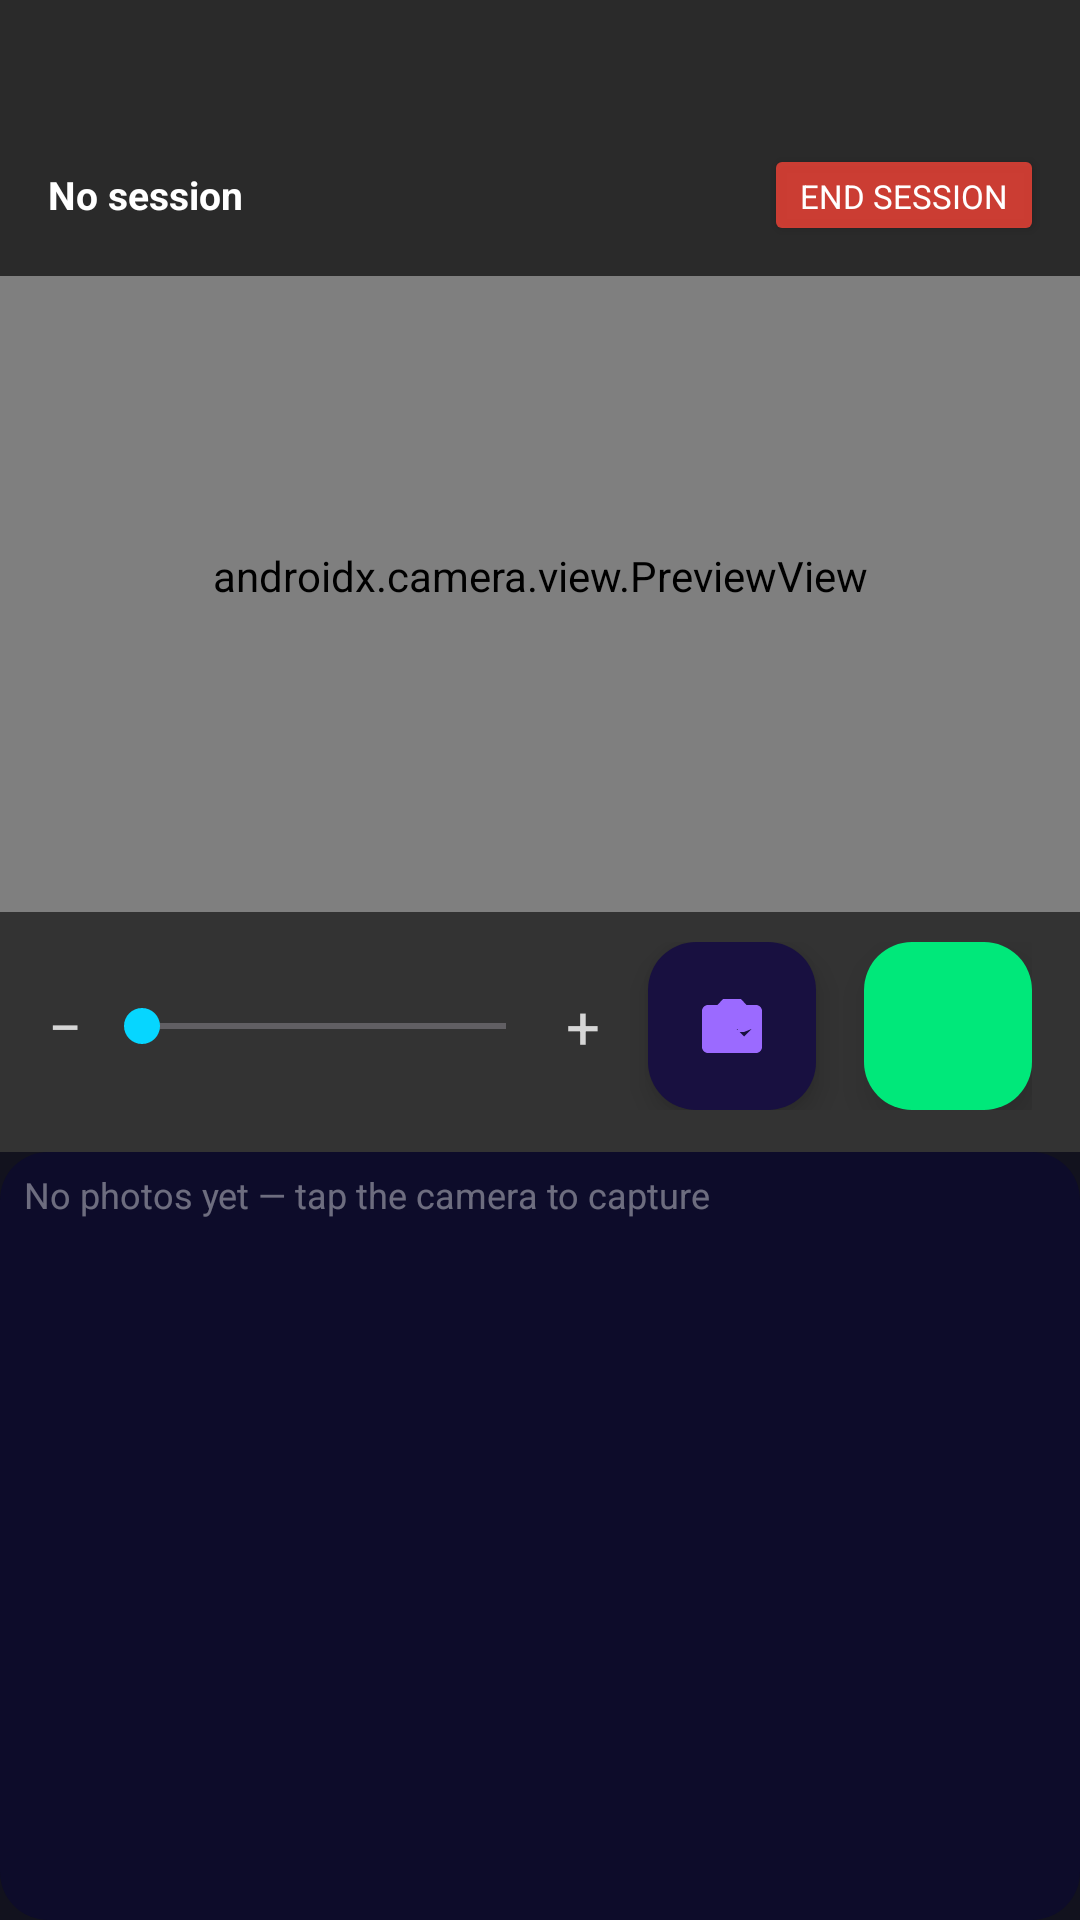

Screen size 1080x1920. Icon name, then its box in pixels as (x1, y1, x2, y2):
Flip camera: (648, 942, 816, 1110)
